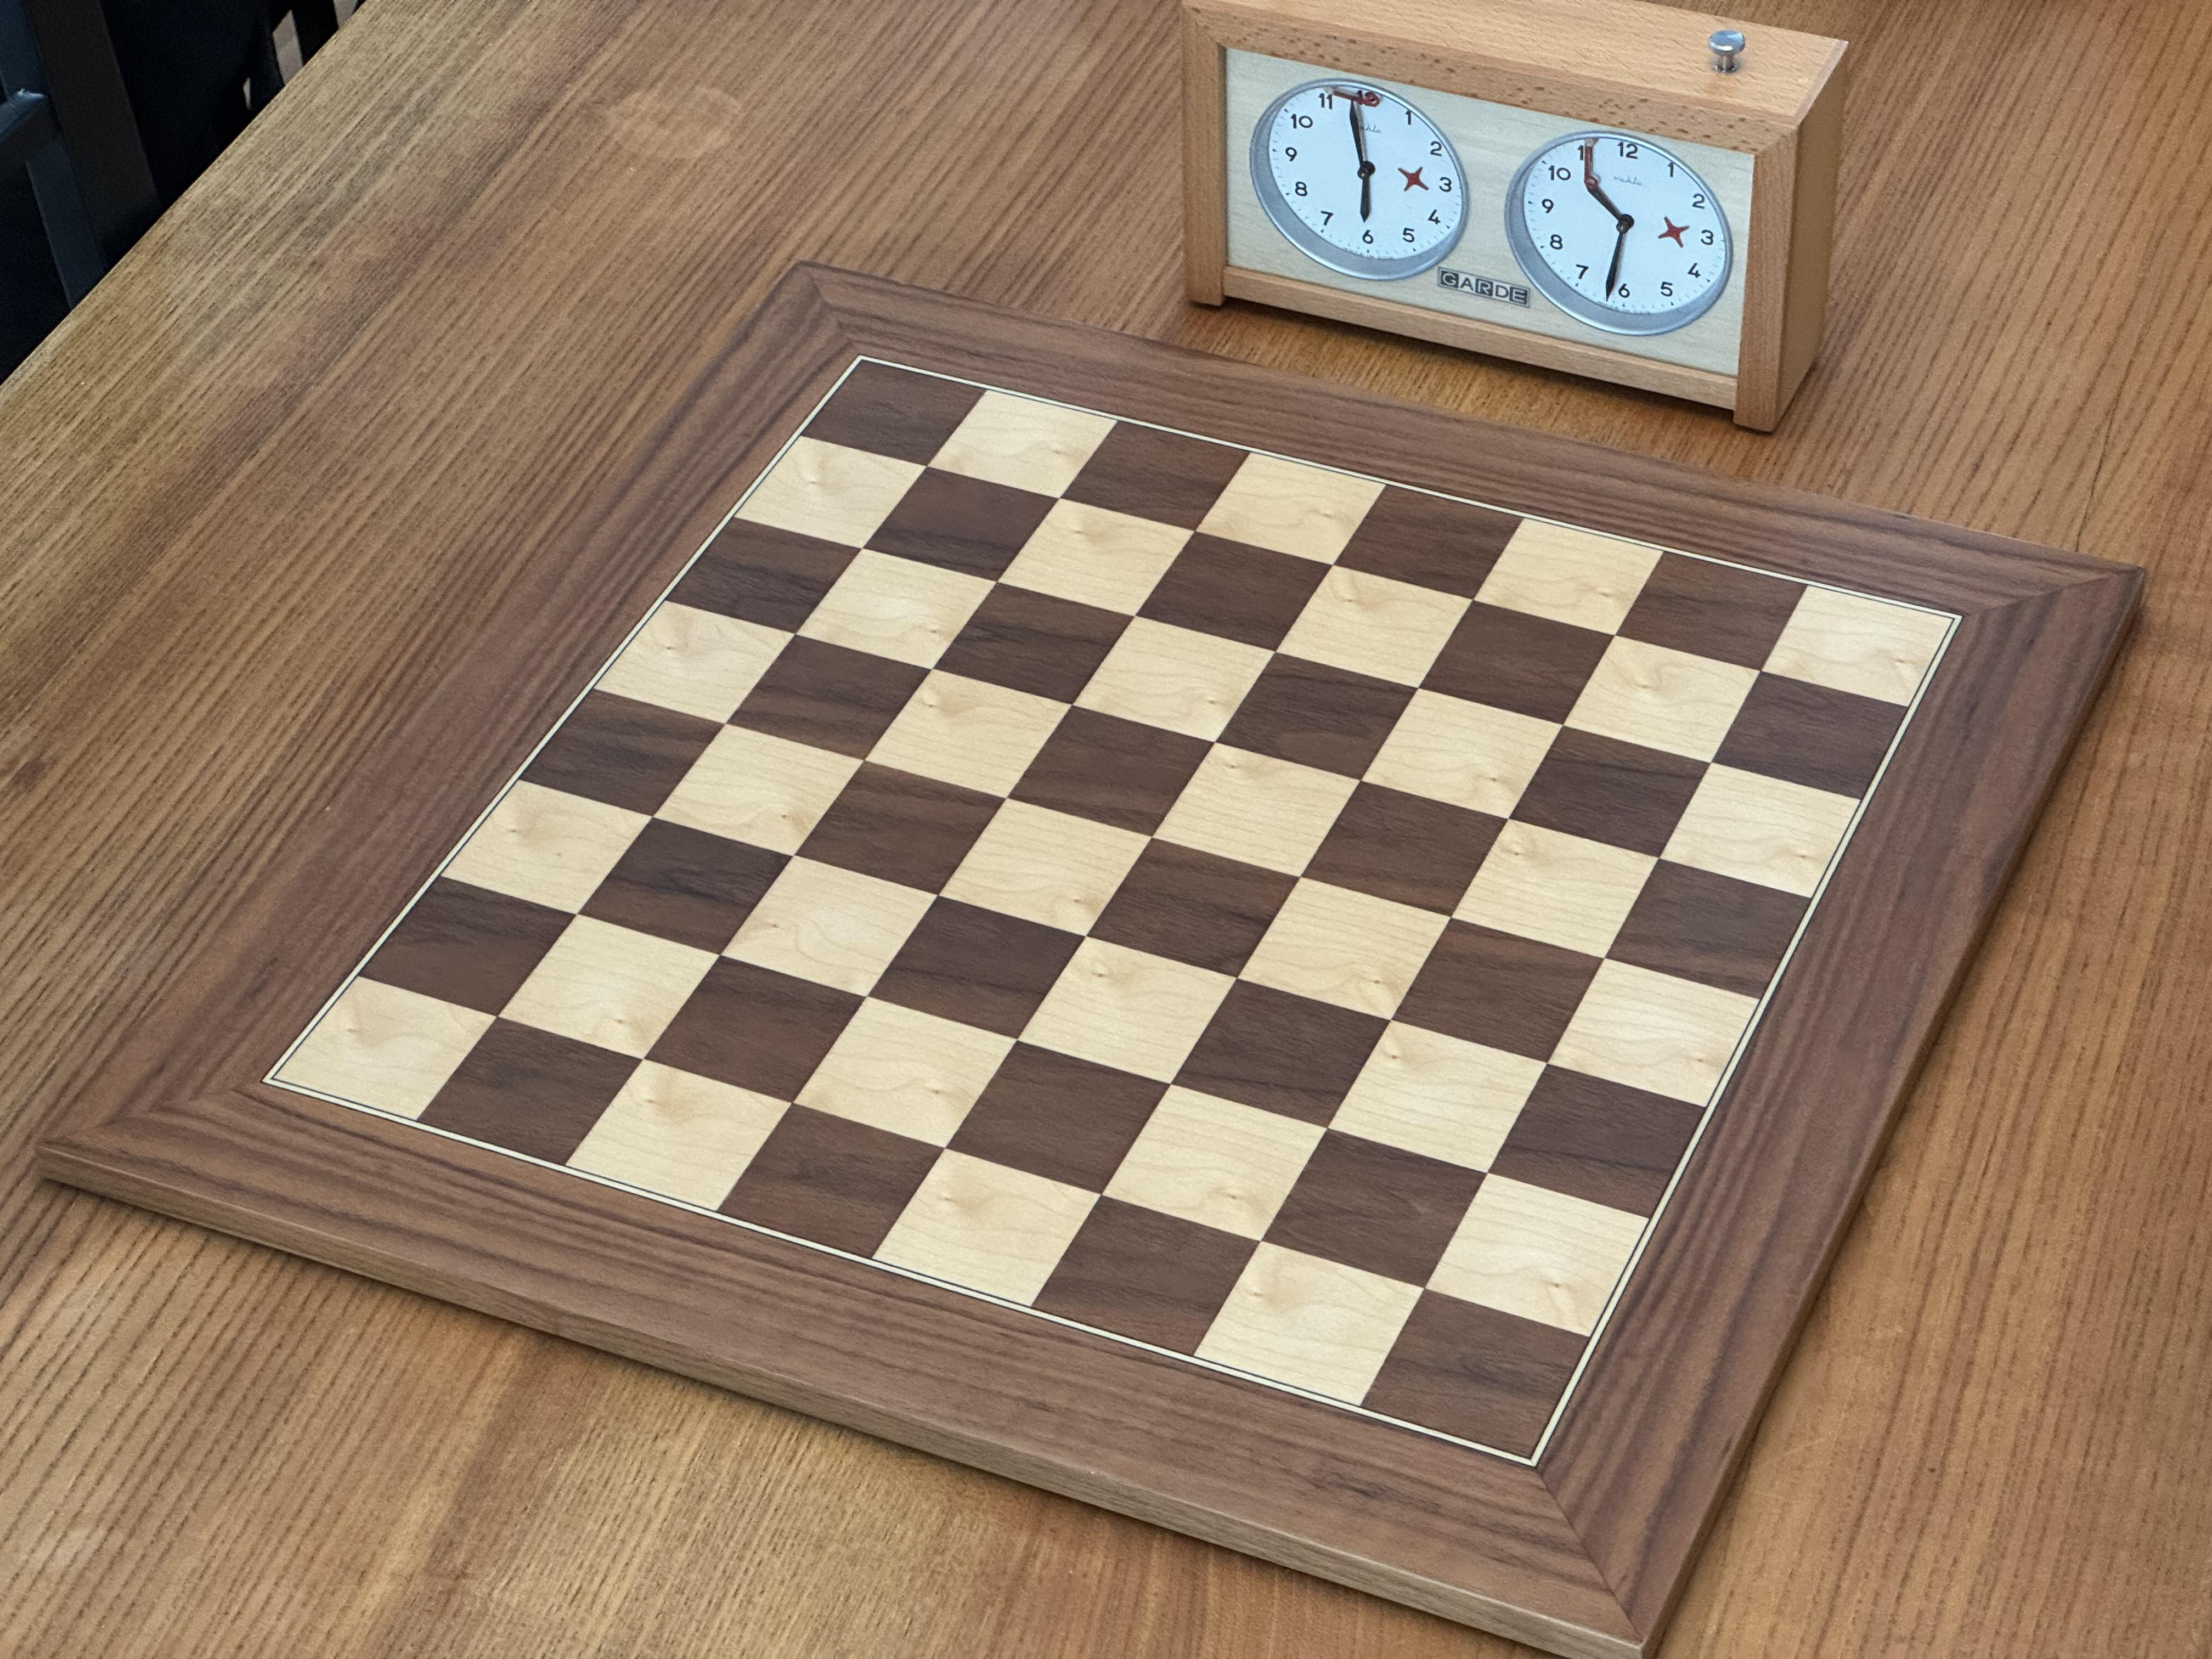corner A: (183, 1000, 352, 1166)
corner B: (1451, 1366, 1637, 1553)
corner C: (1872, 535, 2036, 706)
